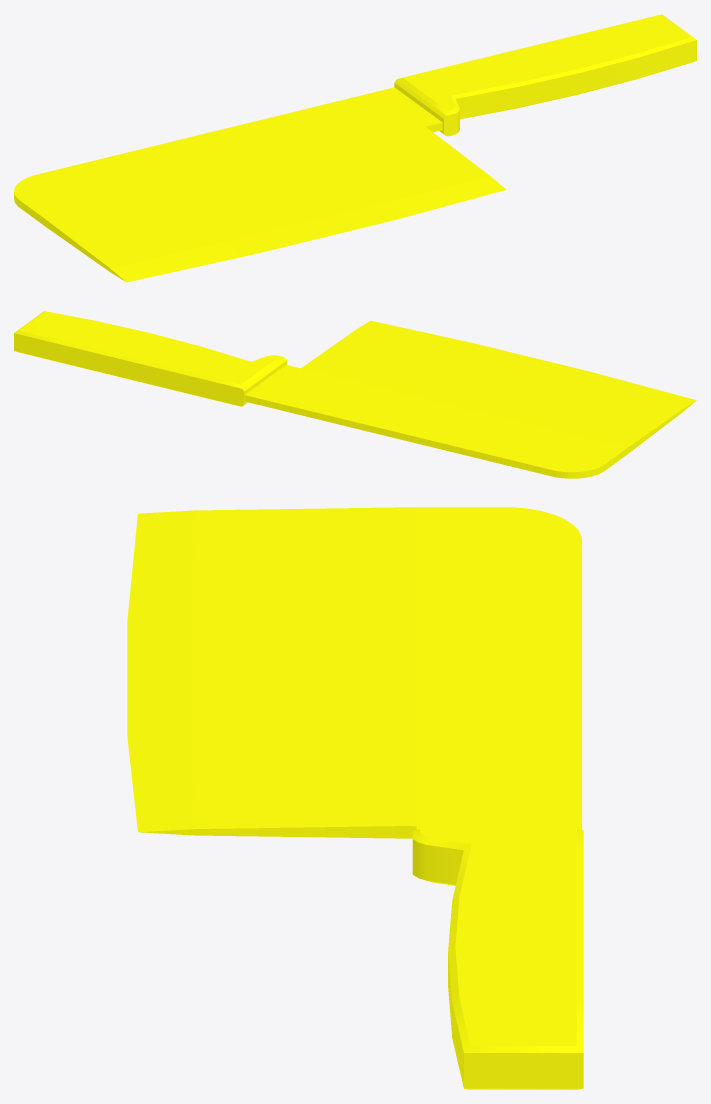
The model's file is SM_Knife01.glb.
3 views of the same model, one above another, from view 1: azimuth 30°, elevation 25°; view 2: azimuth 150°, elevation 25°; view 3: azimuth 270°, elevation 25° (orthographic). The views are drawn at different scales.
Parts seen in each view (by area): view 1: SM_Knife01; view 2: SM_Knife01; view 3: SM_Knife01.
Part boxes in pixels (x1,y1,x2,y2): SM_Knife01: (14, 14, 696, 282); SM_Knife01: (14, 311, 696, 478); SM_Knife01: (127, 507, 583, 1089).
Bounding box in the file's own units: 0.4522 × 0.0166 × 0.1564.
Materials: 1 (1 with a texture image).
